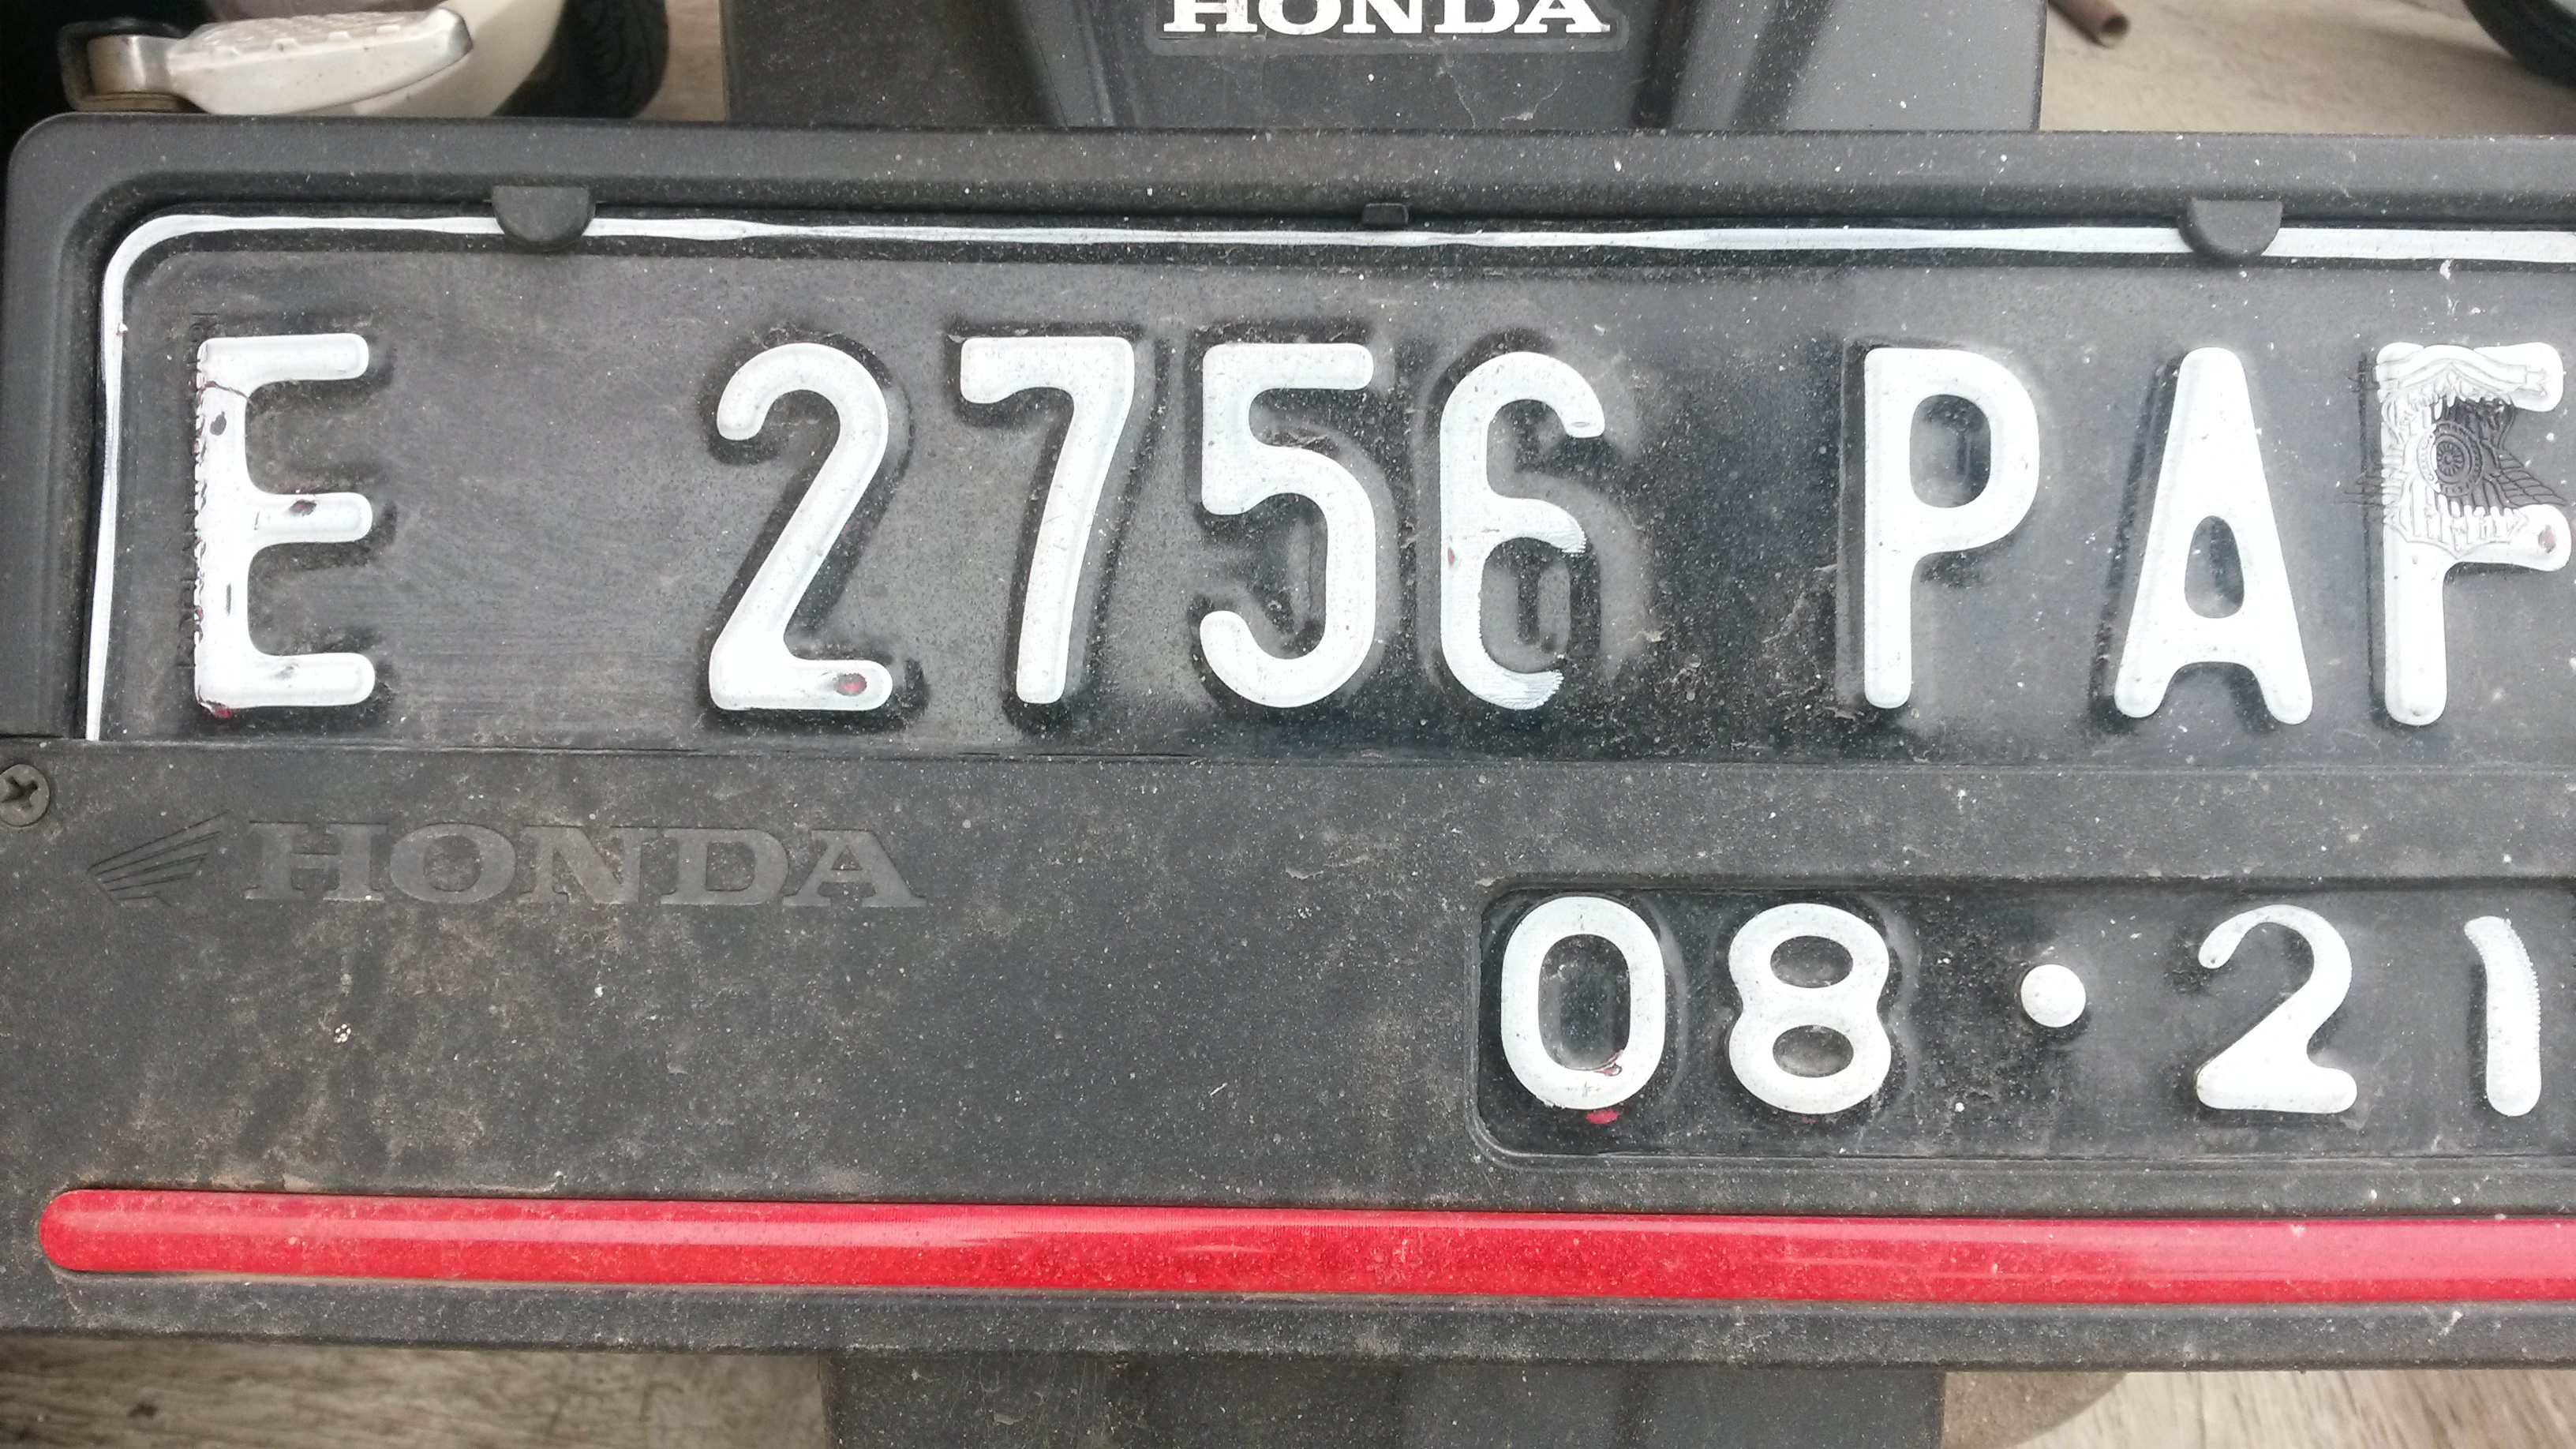plate: (95, 200, 2576, 1184)
